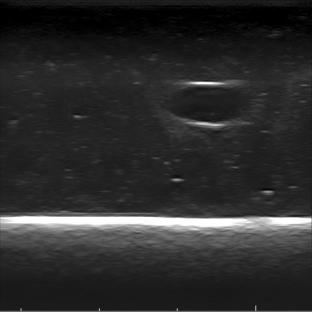vessel: (165, 81, 249, 129)
